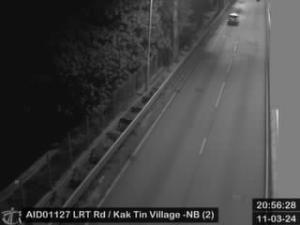vehicle: (227, 12, 239, 26)
